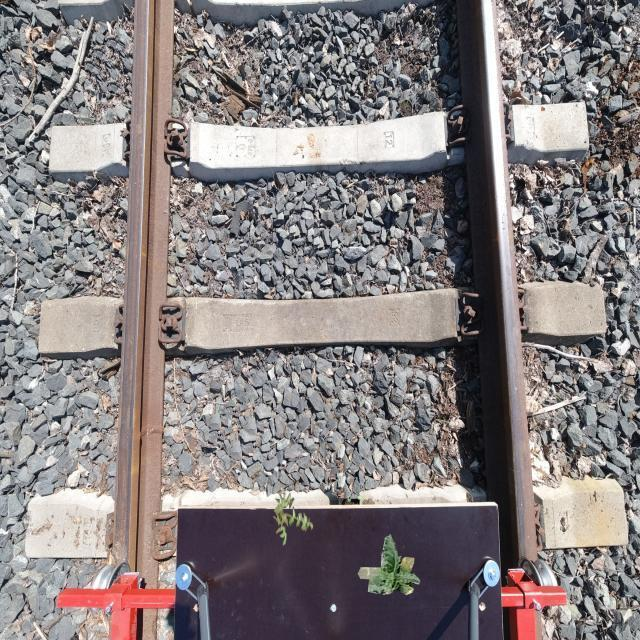Plant: (357, 533, 420, 595), (273, 493, 314, 547)
